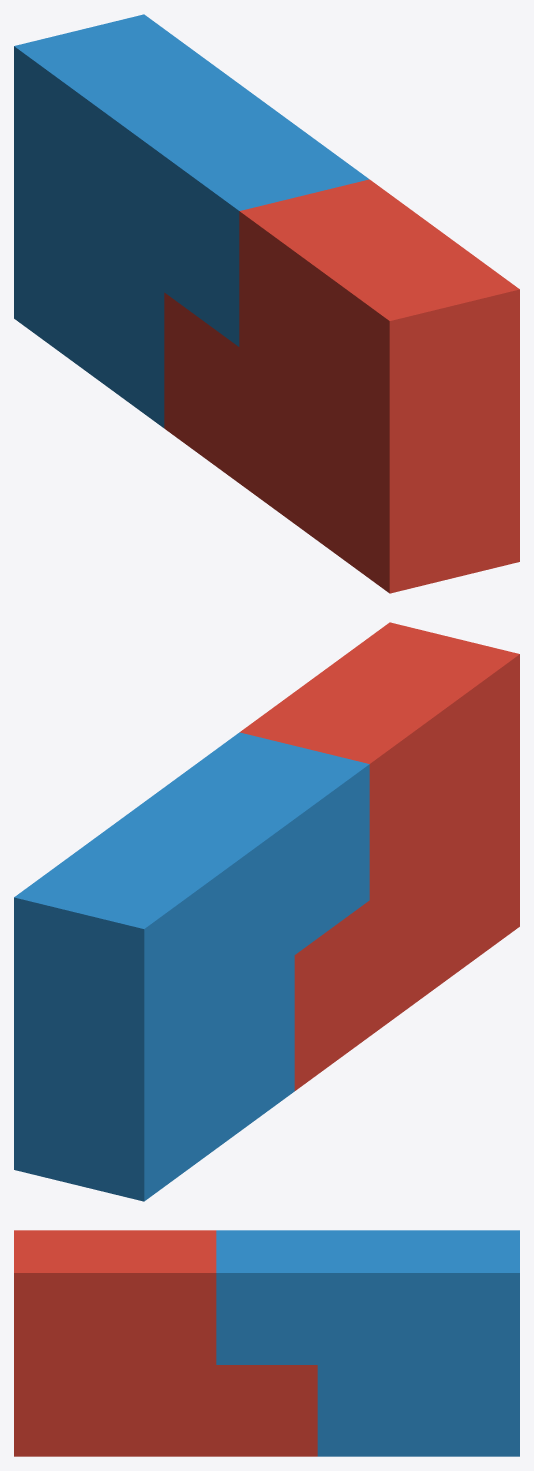
Rendered from tiling.obj.
3 views of the same model, one above another, from view 1: azimuth 30°, elevation 25°; view 2: azimuth 150°, elevation 25°; view 3: azimuth 270°, elevation 25° (orthographic). The views are drawn at different scales.
Parts seen in each view (by area): view 1: copy_1, copy_2; view 2: copy_2, copy_1; view 3: copy_2, copy_1.
Boxes of the visible parts, x1=… form: copy_1: x1=164, y1=179, x2=519, y2=593; copy_2: x1=14, y1=14, x2=369, y2=427; copy_2: x1=14, y1=732, x2=369, y2=1201; copy_1: x1=240, y1=622, x2=519, y2=1090; copy_2: x1=216, y1=1230, x2=519, y2=1456; copy_1: x1=14, y1=1230, x2=317, y2=1456.
Size of the model in its own units: 1 by 2 by 5.
